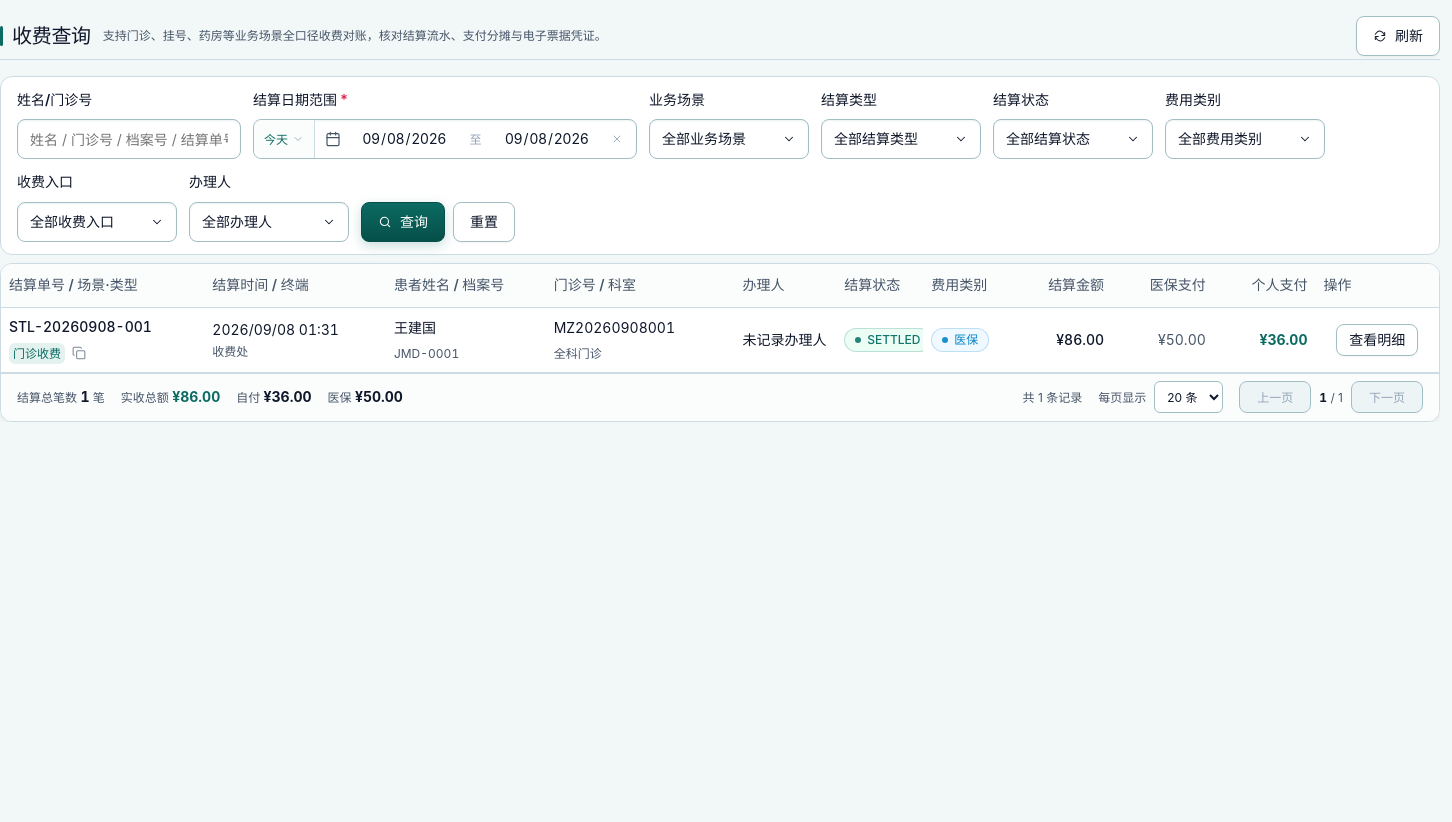
it: BillingQueryWorkspace › filters by entry and disables the operator for entries without staff
Expected: the button with aria-label "结算记录 STL-20260908-001" is shown, [1,308,1439,372]
Click the dropdown labelled "收费入口": (97, 222) [17,202,177,242]
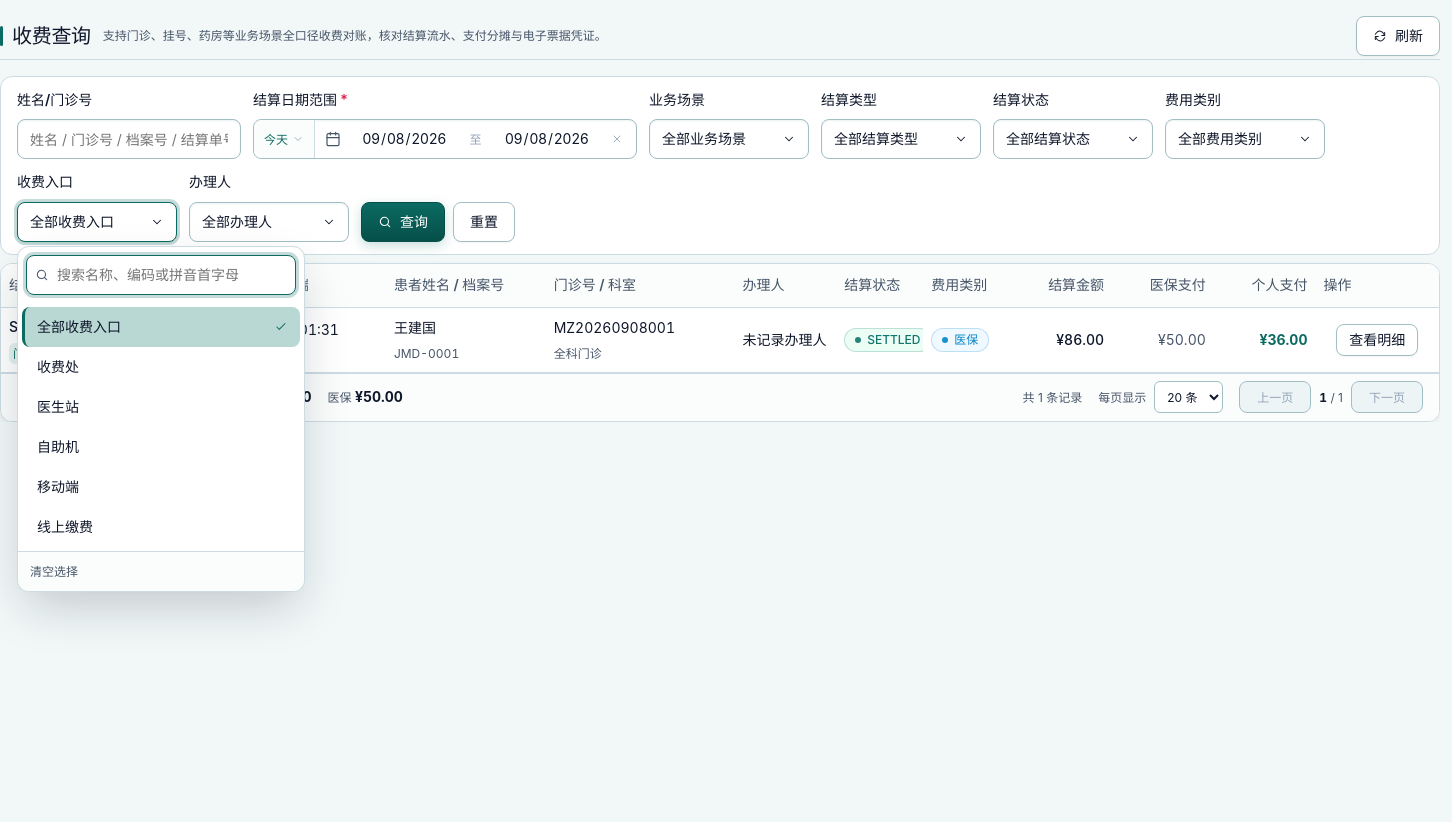
Click the option "自助机": (58, 446) [22,427,300,467]
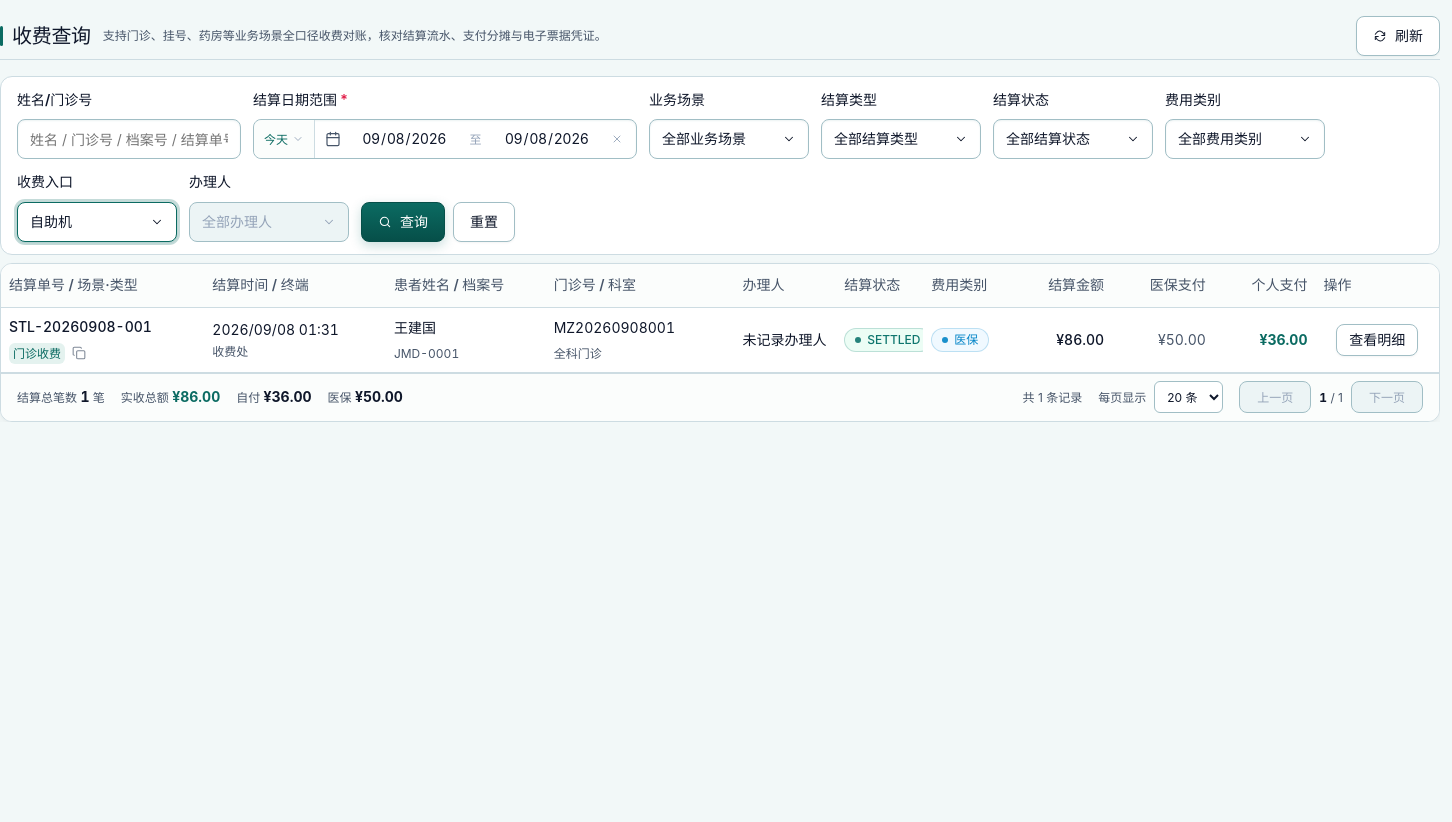
Result: the dropdown labelled "办理人" is disabled at [189,202,349,242]
Click the button "查询": (403, 222) [361,202,445,242]
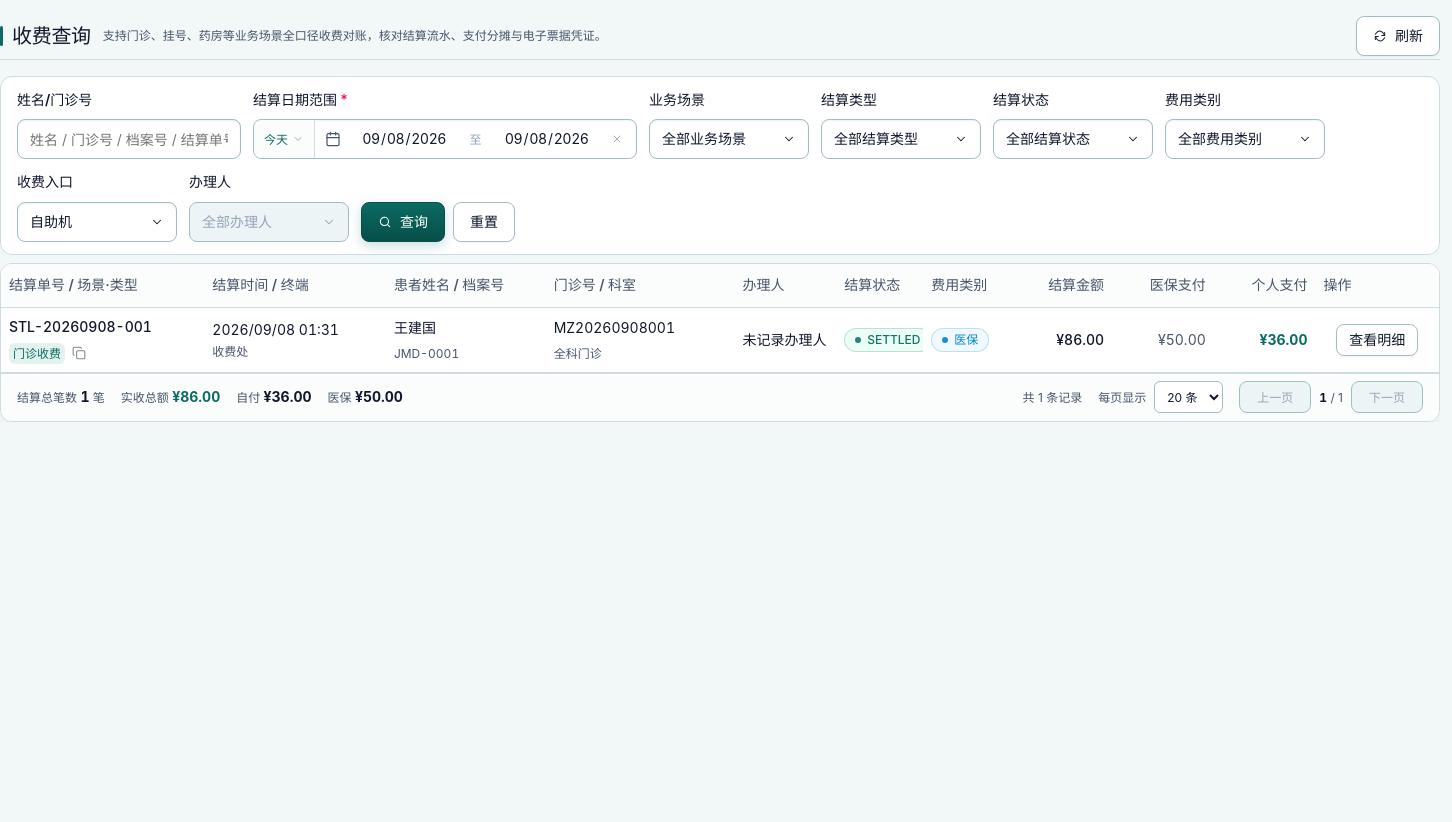
Click the dropdown named "收费入口": (97, 222) [17,202,177,242]
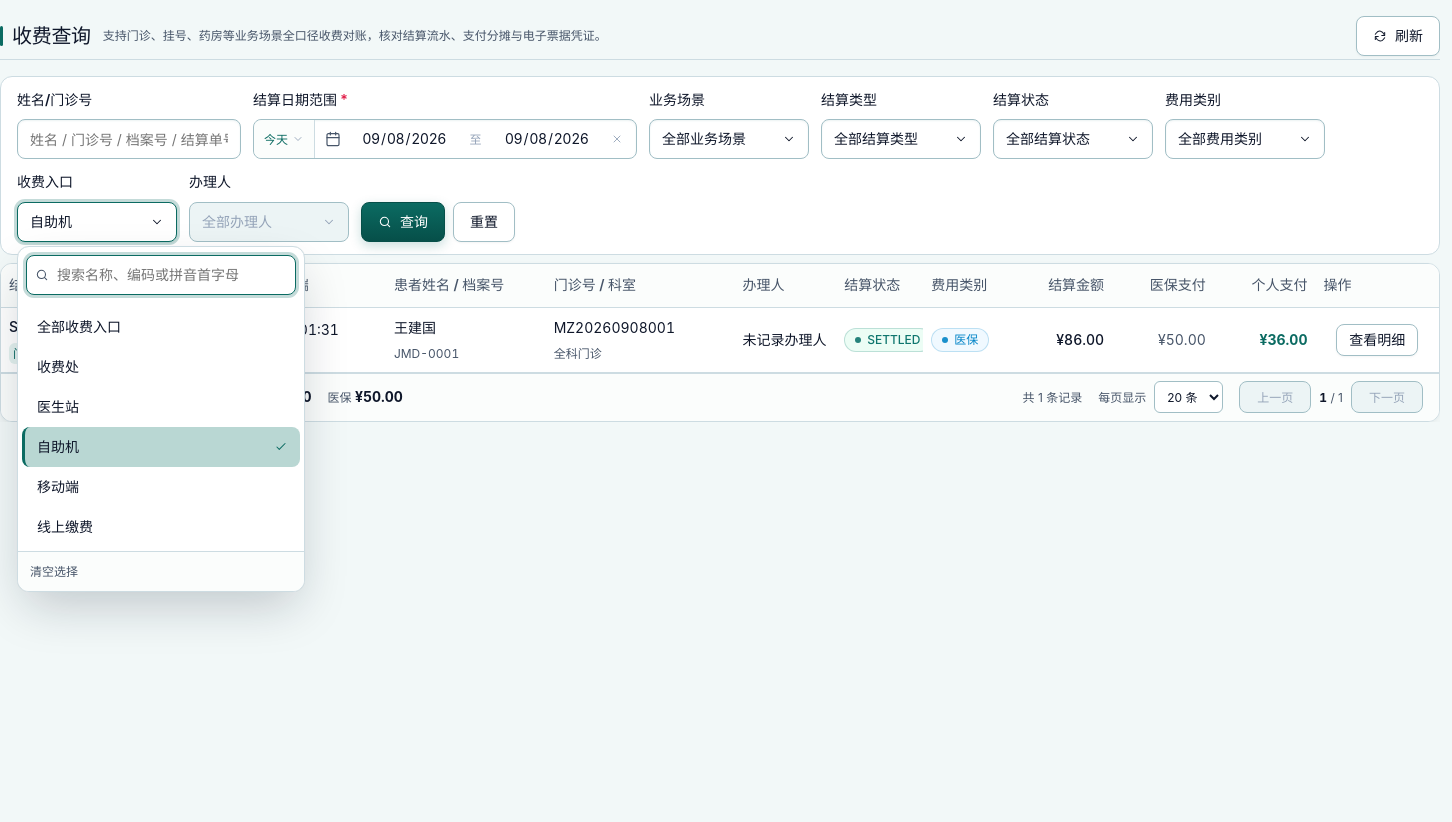
Click the option "医生站": (58, 406) [22,387,300,427]
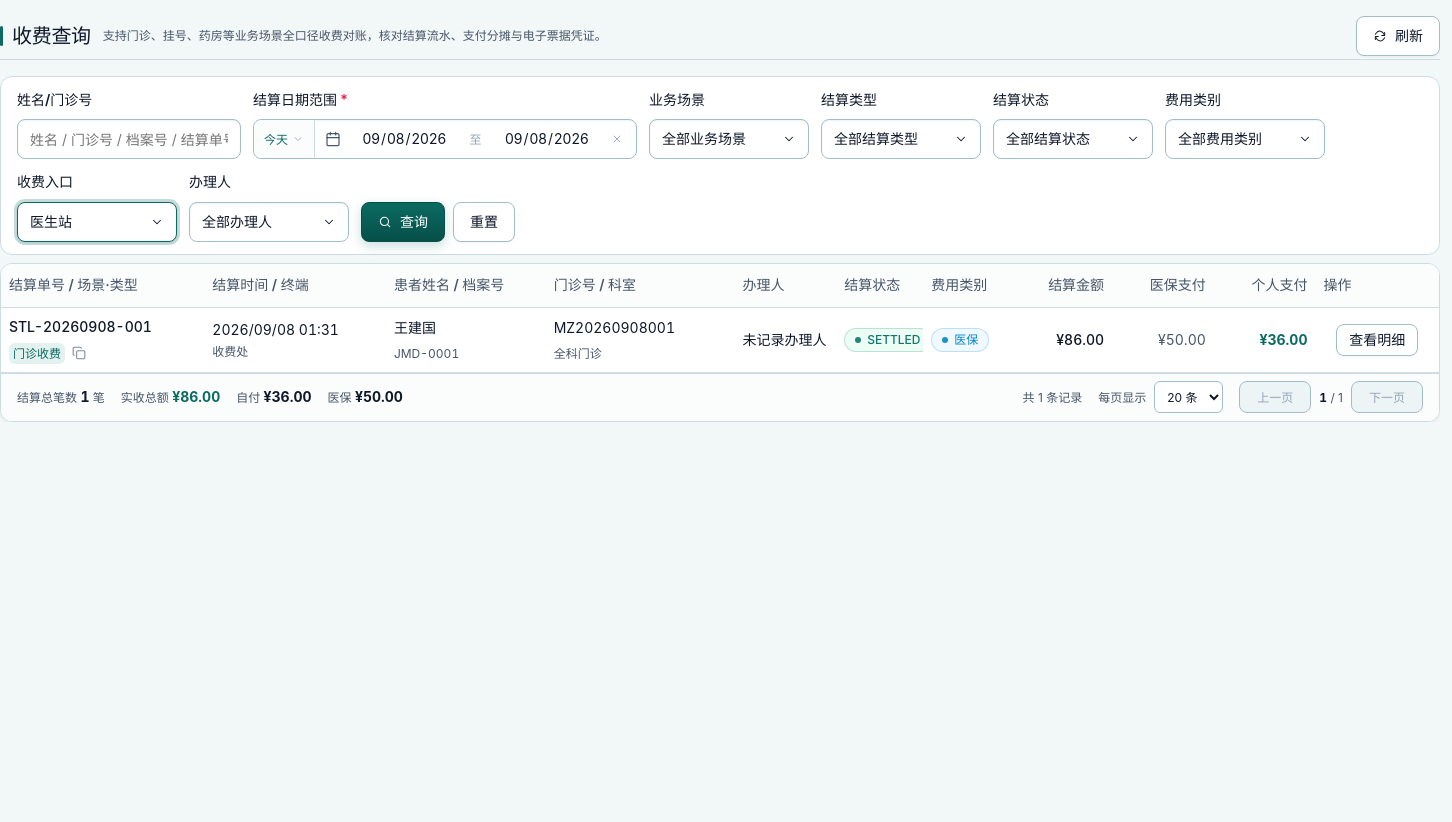
Result: the dropdown labelled "办理人" is enabled at [189,202,349,242]
